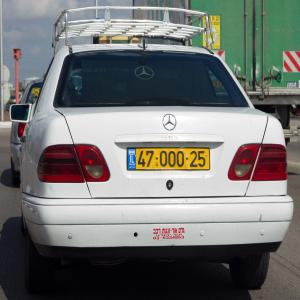Vehicle-registration-plate: (128, 148, 211, 171)
